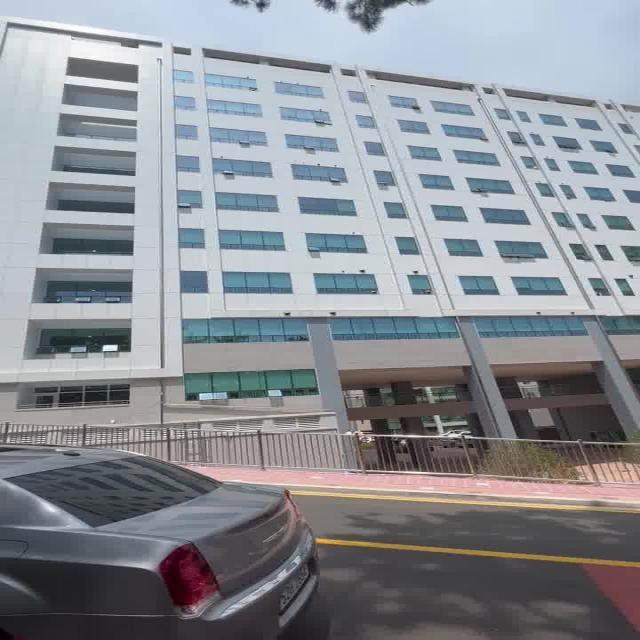building: (37, 38, 640, 438)
